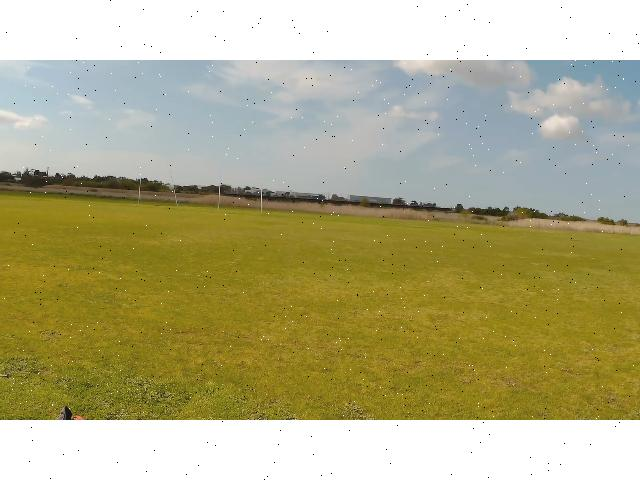Anti-Drone: (247, 116, 271, 132)
